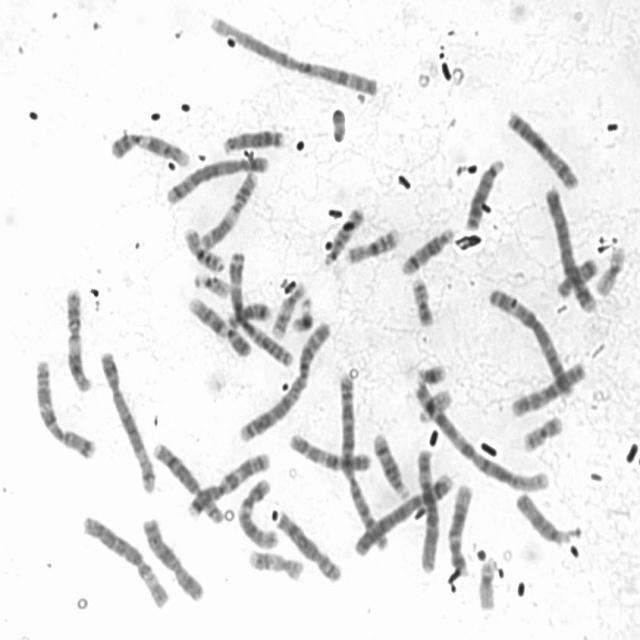A1: (411, 376, 551, 496), (206, 9, 382, 99)
A2: (235, 317, 333, 444), (334, 367, 393, 554)
A3: (484, 283, 577, 398), (223, 244, 296, 370)
B4: (350, 468, 458, 557), (541, 180, 598, 314)
B5: (96, 344, 159, 496), (162, 149, 272, 206)
C10: (506, 356, 588, 419), (284, 427, 374, 474)
C11: (195, 167, 259, 251), (61, 282, 93, 395)
C12: (234, 472, 280, 550), (444, 479, 475, 578)
C6: (78, 509, 172, 611), (414, 444, 442, 575)
C7: (31, 354, 98, 462), (184, 446, 273, 520)
C8: (148, 436, 224, 526), (272, 506, 346, 584)
C9: (184, 291, 254, 359), (106, 126, 194, 170)
D13: (461, 152, 507, 232), (219, 124, 287, 156)
D14: (398, 222, 457, 276), (370, 427, 411, 500)
D15: (512, 487, 573, 548), (321, 209, 366, 268)
E16: (343, 222, 403, 266), (180, 222, 226, 274)
E17: (269, 277, 309, 340), (244, 544, 306, 583)
E18: (552, 251, 600, 300), (224, 296, 274, 330)
F19: (591, 240, 628, 297), (475, 551, 498, 612)
F20: (519, 411, 566, 454), (408, 272, 436, 328)
G21: (288, 292, 316, 333), (412, 358, 449, 386)
G22: (413, 384, 453, 424), (190, 268, 232, 298)
X: (502, 106, 582, 192), (139, 512, 206, 603)
